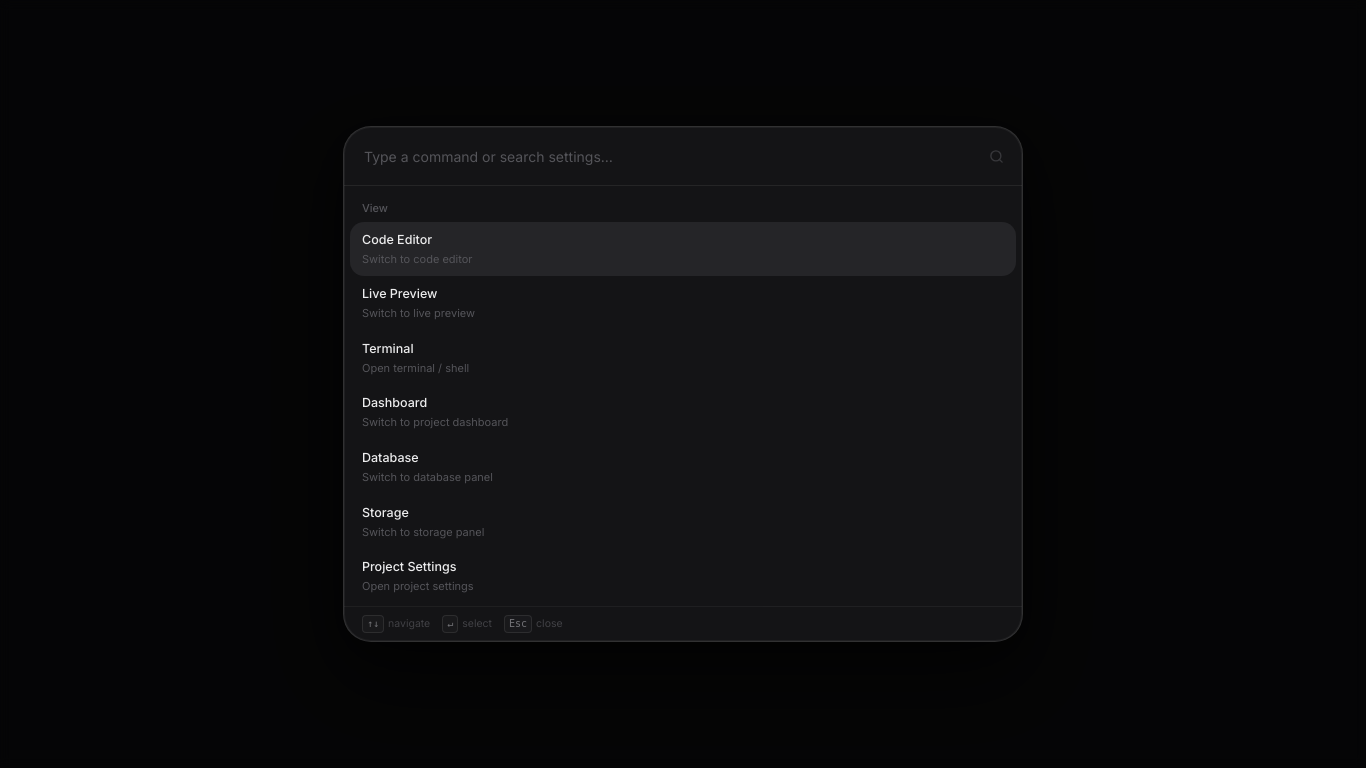
Scenario: SettingsSearch › shows active indicator on current theme
Type "betopia" into the field with test id "ss-input" at (672, 156), box [364,127,979,185]
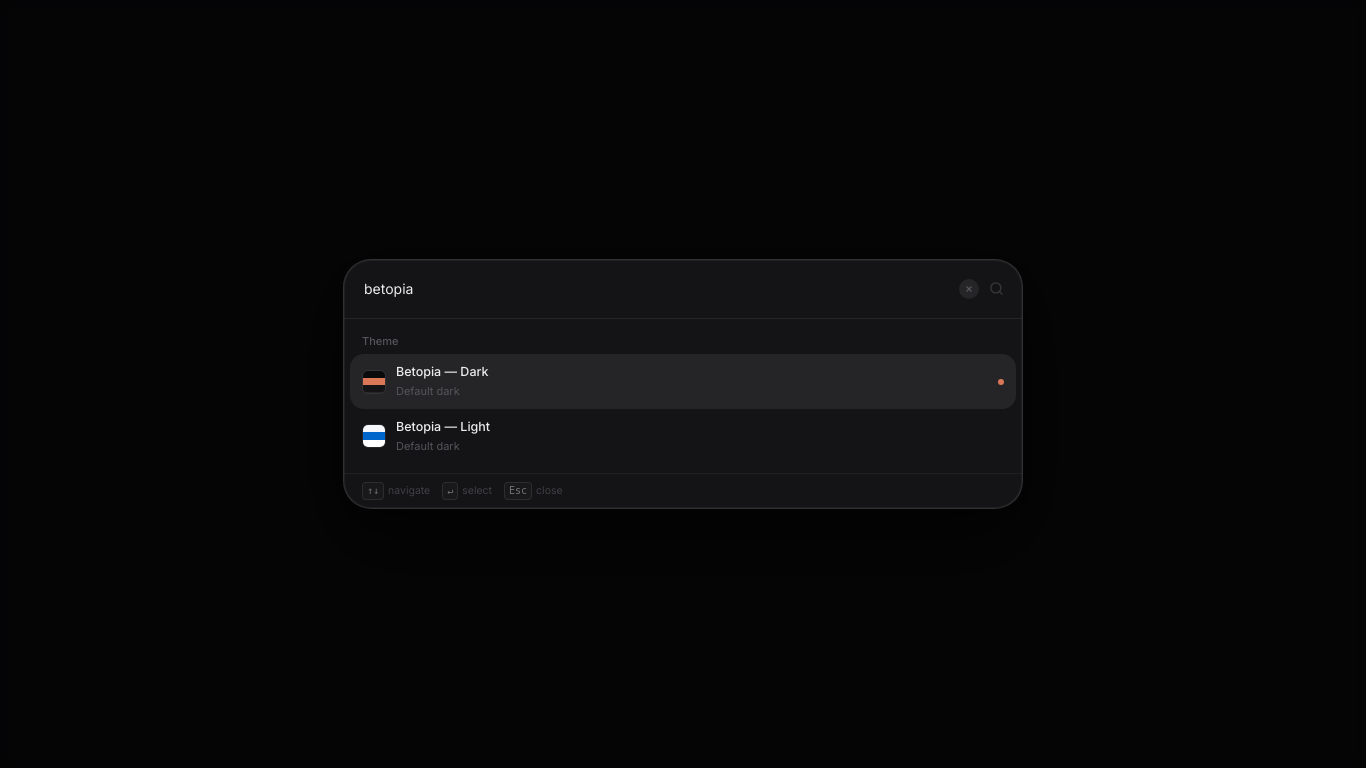
Now the element with class "ss-active-dot" is shown, box [998,378,1004,384]
